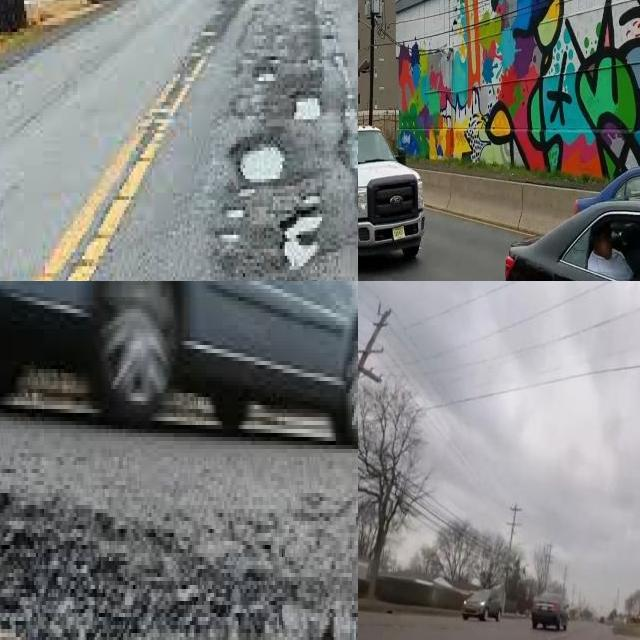Pothole: (0, 514, 358, 640), (238, 123, 294, 186), (280, 193, 324, 270), (296, 88, 327, 112)
